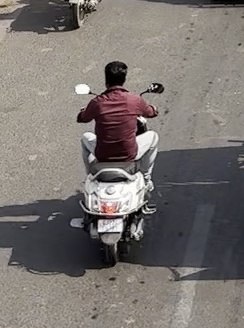BikeWithRider: (68, 57, 166, 267)
NoHelmet: (102, 58, 129, 92)
